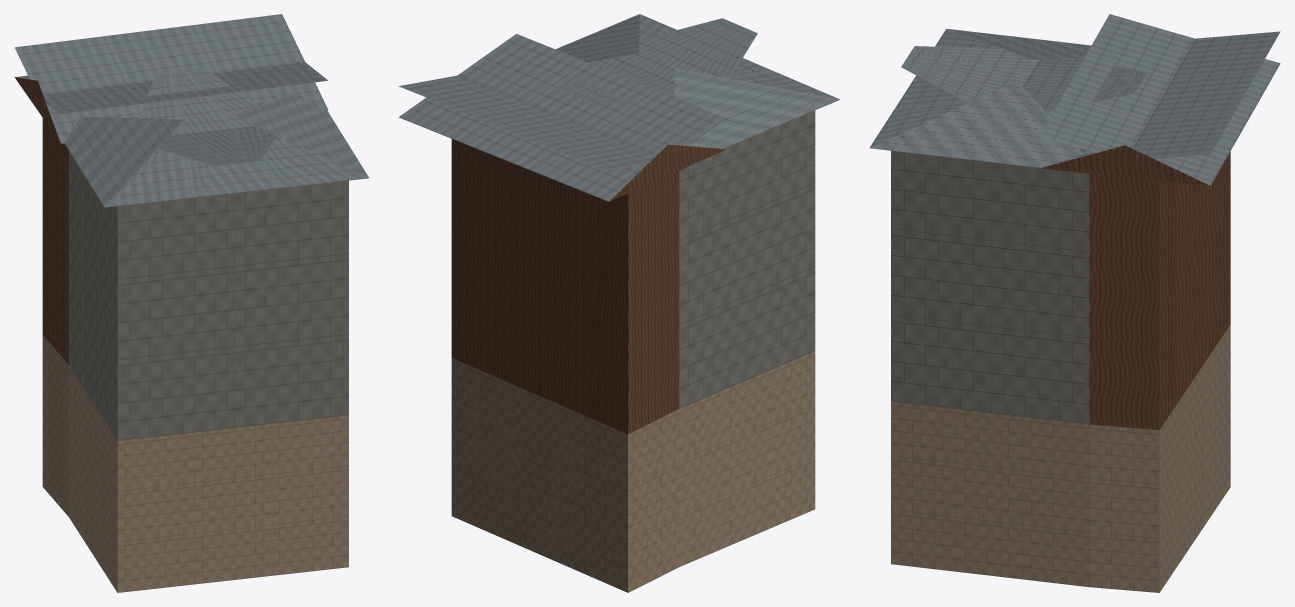
The model's file is bld_c38_-12_534.gltf.
The picture shows the model from 3 angles, left to right: view 1: azimuth 30°, elevation 25°; view 2: azimuth 150°, elevation 25°; view 3: azimuth 270°, elevation 25°; orthographic projection. The views are drawn at different scales.
Parts seen in each view (by area): view 1: bld_c38_-12_534; view 2: bld_c38_-12_534; view 3: bld_c38_-12_534.
Part boxes in pixels (left/top/right/bottom): bld_c38_-12_534: left=14, top=14, right=368, bottom=592; bld_c38_-12_534: left=398, top=14, right=840, bottom=592; bld_c38_-12_534: left=869, top=14, right=1280, bottom=592.
Bounding box in the file's own units: 10.56 × 14.2 × 11.68.
5 materials, 5 textured.
